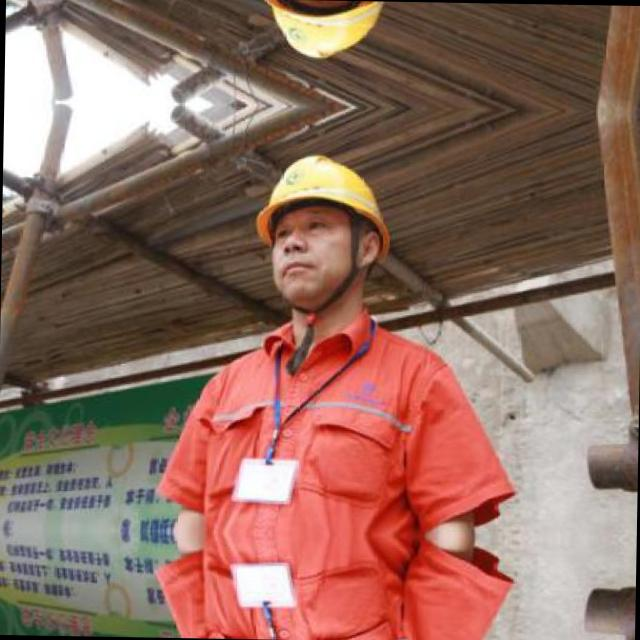helmet: (242, 137, 398, 320), (246, 0, 401, 75)
